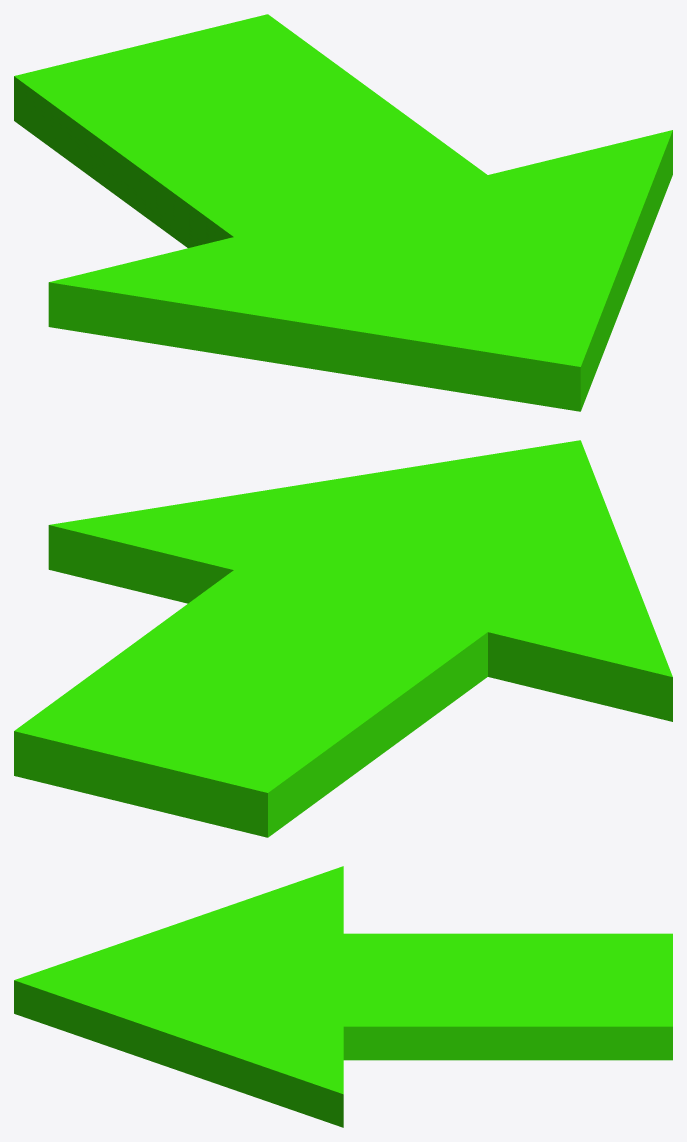
Rendered from Arrow.fbx.
3 views of the same model, one above another, from view 1: azimuth 30°, elevation 25°; view 2: azimuth 150°, elevation 25°; view 3: azimuth 270°, elevation 25° (orthographic). The views are drawn at different scales.
Visible parts, largest first — view 1: Cube.014; view 2: Cube.014; view 3: Cube.014.
Part boxes in pixels (x1=…): Cube.014: x1=14, y1=14, x2=672, y2=411; Cube.014: x1=14, y1=440, x2=672, y2=837; Cube.014: x1=14, y1=866, x2=672, y2=1127.
Bounding box in the file's own units: 164 × 11.23 × 200.
